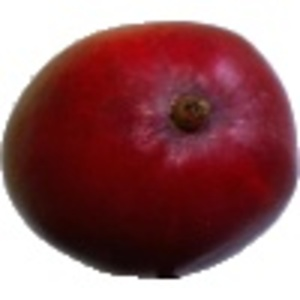manga: (1, 20, 300, 280)
